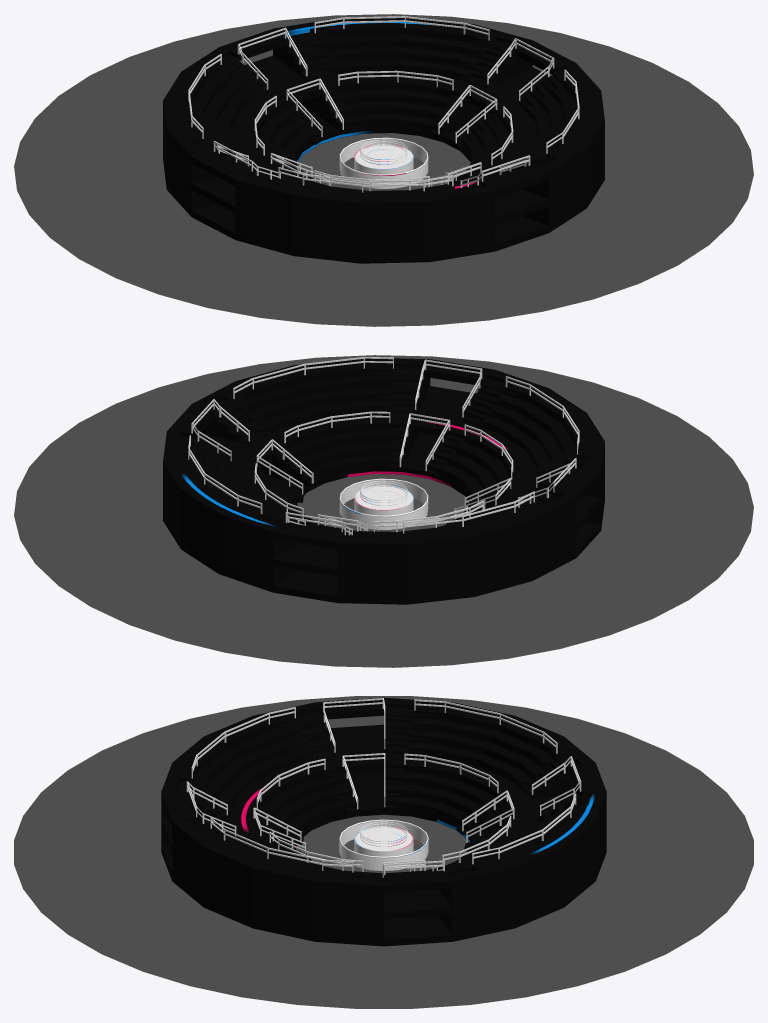
Rendered from stage.fbx.
3 views of the same model, one above another, from view 1: azimuth 30°, elevation 25°; view 2: azimuth 150°, elevation 25°; view 3: azimuth 270°, elevation 25° (orthographic).
Visible parts, largest first — view 1: pDisc1, pCylinder18, pCube29 (×3), pCube24 (×2), pCylinder12, ring, pCube28 (×2), pCube25 (×2); view 2: pDisc1, pCylinder18, pCube24 (×4), pCube29 (×3), pCube28 (×3), pCylinder12, ring, pCube25 (×2); view 3: pDisc1, pCylinder18, pCube24 (×4), pCube29 (×3), pCylinder12, ring, pCube28 (×2), pCube25.
Boxes of the visible parts, box(x1,y1,x2,y2) form: pDisc1: box(14, 14, 753, 326); pCylinder18: box(163, 18, 604, 263); pCube29 (×3): box(237, 27, 554, 188); pCube24 (×2): box(278, 16, 489, 192); pCylinder12: box(339, 139, 428, 188); ring: box(354, 145, 413, 174); pCube28 (×2): box(286, 78, 497, 143); pCube25 (×2): box(314, 70, 453, 191); pDisc1: box(14, 355, 753, 667); pCylinder18: box(163, 358, 604, 604); pCube24 (×4): box(188, 357, 579, 533); pCube29 (×3): box(191, 359, 576, 507); pCube28 (×3): box(256, 413, 511, 519); pCylinder12: box(339, 480, 428, 529); ring: box(354, 486, 413, 515); pCube25 (×2): box(284, 411, 483, 532); pDisc1: box(14, 696, 753, 1008); pCylinder18: box(161, 697, 606, 946); pCube24 (×4): box(191, 699, 576, 872); pCube29 (×3): box(186, 698, 581, 836); pCylinder12: box(339, 821, 428, 870); ring: box(354, 827, 413, 856); pCube28 (×2): box(253, 790, 514, 853); pCube25: box(404, 753, 498, 792).
Bounding box in the file's own units: 99.69 × 10.74 × 99.69.
Materials: 7 (5 with a texture image).
